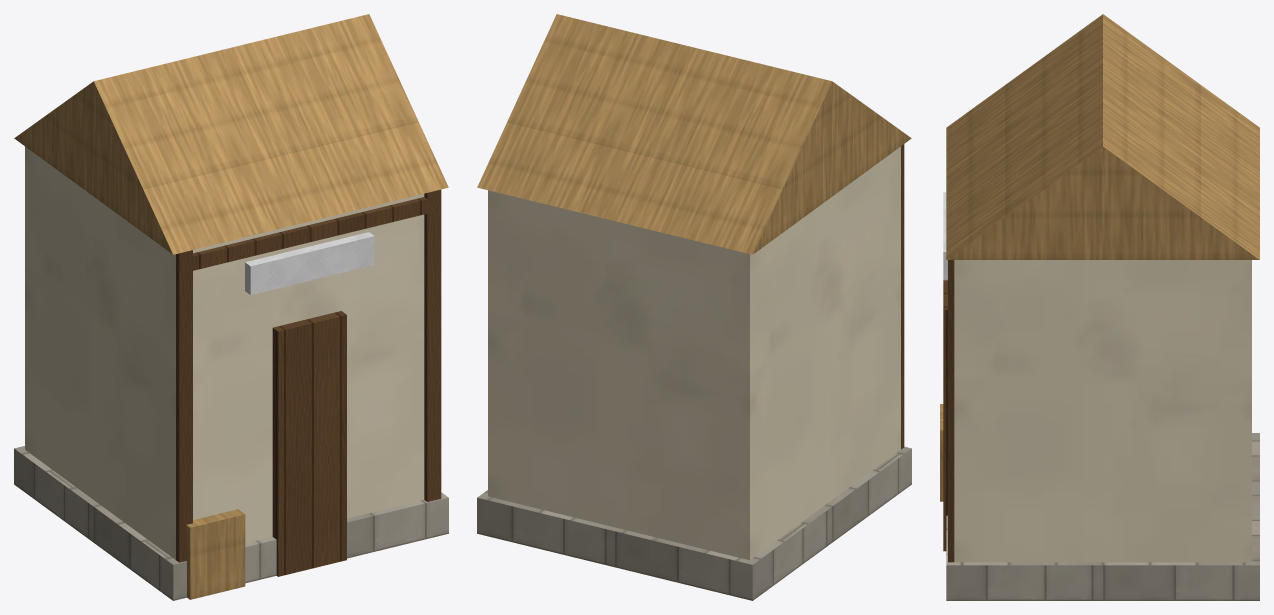
The model's file is category.staking.t0.glb.
The picture shows the model from 3 angles, left to right: view 1: azimuth 30°, elevation 25°; view 2: azimuth 150°, elevation 25°; view 3: azimuth 270°, elevation 25°; orthographic projection.
Visible parts, largest first — view 1: building.category.staking.t0; view 2: building.category.staking.t0; view 3: building.category.staking.t0.
Part boxes in pixels (box(x1,y1,x2,y2)): building.category.staking.t0: box(14, 14, 448, 600); building.category.staking.t0: box(477, 14, 911, 600); building.category.staking.t0: box(940, 14, 1259, 600).
Size of the model in its own units: 2 by 3.2 by 2.04.
Materials: 5 (5 with a texture image).
